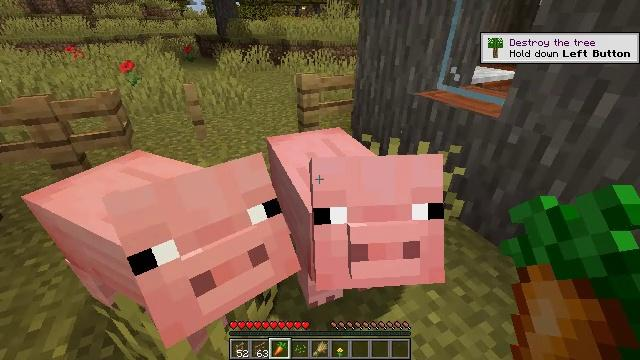pig: (21, 150, 302, 343), (268, 126, 445, 305)
